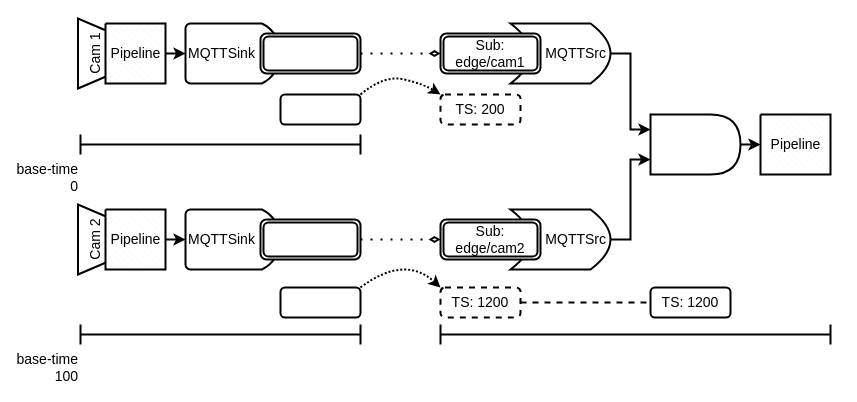
This 857x402 diagram has some shape labels left out. Each missing label, with the centre of its shape:
base-time 300: the point at 635,334
Pub: edge/cam1: the point at 310,53
Pub: edge/cam2: the point at 310,239
Tensor Mux: the point at 695,144
TS: 1400: the point at 320,302
TS: 500: the point at 320,109
